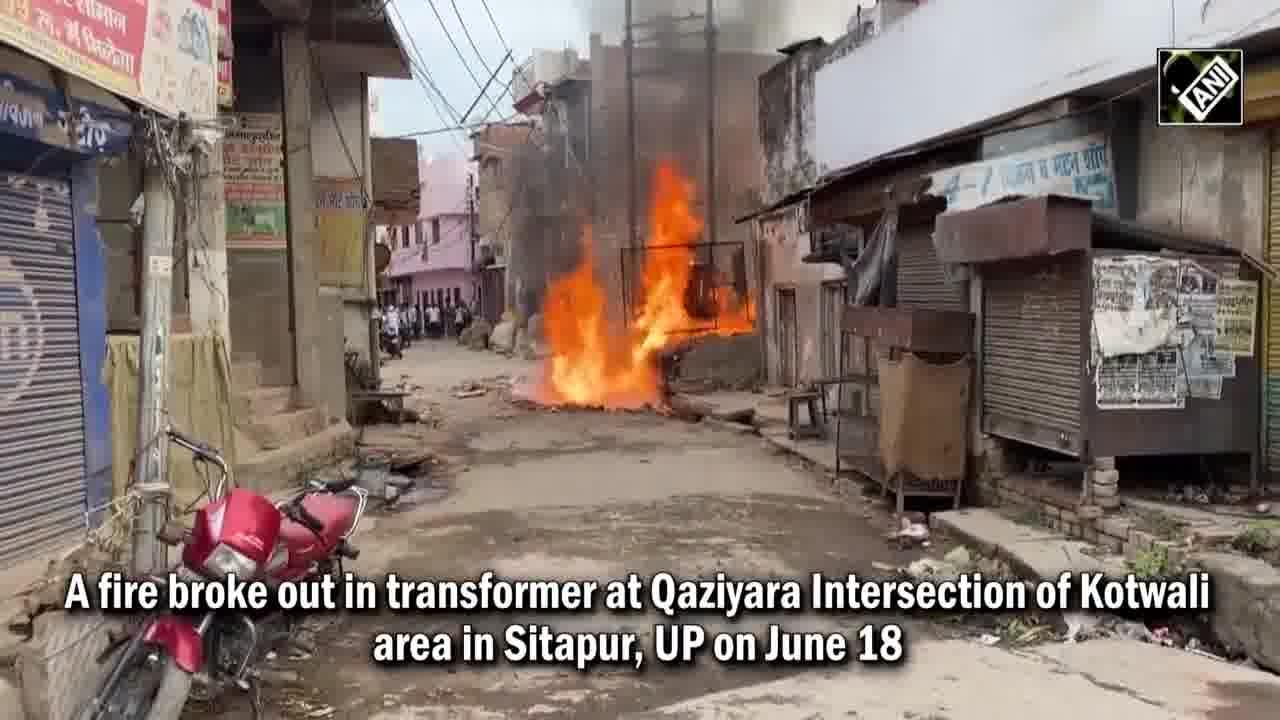fire: (538, 166, 752, 392)
smoke: (608, 30, 760, 148)
